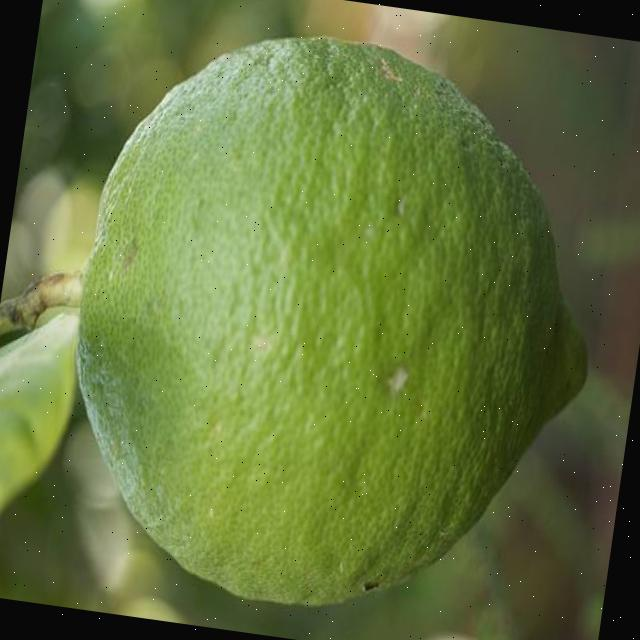Unripe: (36, 7, 629, 640)
